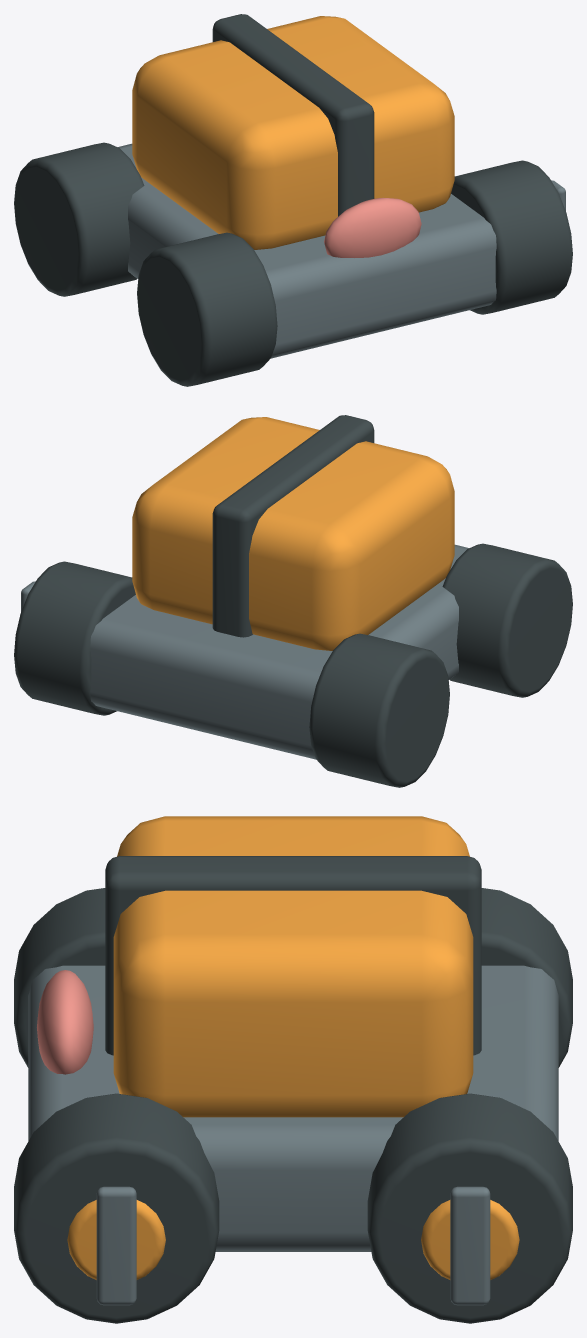
File: drone.glb
3 renders of one model, top to bottom at view 1: azimuth 30°, elevation 25°; view 2: azimuth 150°, elevation 25°; view 3: azimuth 270°, elevation 25°, orthographic. The views are drawn at different scales.
Visible parts, largest first — view 1: Bomb payload, Courier chassis, Wheel pivot.010, Wheel pivot.011, Wheel pivot.012, Payload strap, Courier eye; view 2: Bomb payload, Courier chassis, Wheel pivot.011, Wheel pivot.010, Wheel pivot.013, Payload strap; view 3: Bomb payload, Courier chassis, Wheel pivot.012, Wheel pivot.013, Payload strap, Wheel pivot.010, Wheel pivot.011, Wheel spoke.018, Wheel spoke.019, Courier eye, Wheel hub.012, Wheel hub.013.
Part boxes in pixels (bbox=[...]): Bomb payload: bbox=[132, 16, 454, 249]; Courier chassis: bbox=[118, 143, 496, 358]; Wheel pivot.010: bbox=[137, 232, 277, 386]; Wheel pivot.011: bbox=[14, 142, 144, 296]; Wheel pivot.012: bbox=[451, 160, 572, 314]; Payload strap: bbox=[212, 14, 374, 216]; Courier eye: bbox=[324, 197, 421, 257]; Bomb payload: bbox=[132, 417, 454, 650]; Courier chassis: bbox=[90, 544, 468, 759]; Wheel pivot.011: bbox=[309, 633, 449, 787]; Wheel pivot.010: bbox=[442, 543, 572, 697]; Wheel pivot.013: bbox=[14, 561, 135, 715]; Payload strap: bbox=[212, 415, 374, 637]; Bomb payload: bbox=[113, 816, 473, 1117]; Courier chassis: bbox=[28, 965, 558, 1251]; Wheel pivot.012: bbox=[14, 1093, 219, 1323]; Wheel pivot.013: bbox=[367, 1093, 572, 1323]; Payload strap: bbox=[105, 856, 481, 1055]; Wheel pivot.010: bbox=[14, 888, 105, 1067]; Wheel pivot.011: bbox=[481, 888, 572, 1067]; Wheel spoke.018: bbox=[96, 1186, 136, 1305]; Wheel spoke.019: bbox=[450, 1186, 490, 1305]; Courier eye: bbox=[37, 970, 93, 1074]; Wheel hub.012: bbox=[67, 1200, 165, 1279]; Wheel hub.013: bbox=[421, 1200, 519, 1279].
Bounding box in the file's own units: 1.14 × 0.645 × 0.98.
